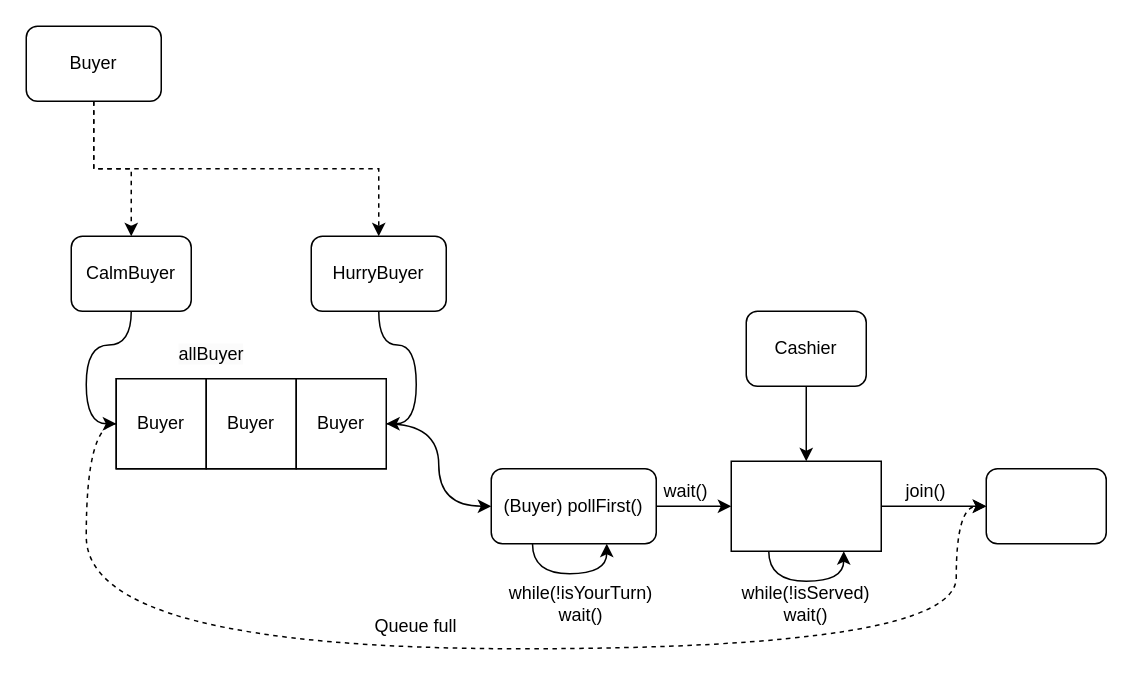
Some shapes in this 1133 by 675 pixel diagram are drawn without their labels. Each missing label, with the centre of its shape:
END: point 1045,505
notifyAll() sell(): point 805,505
